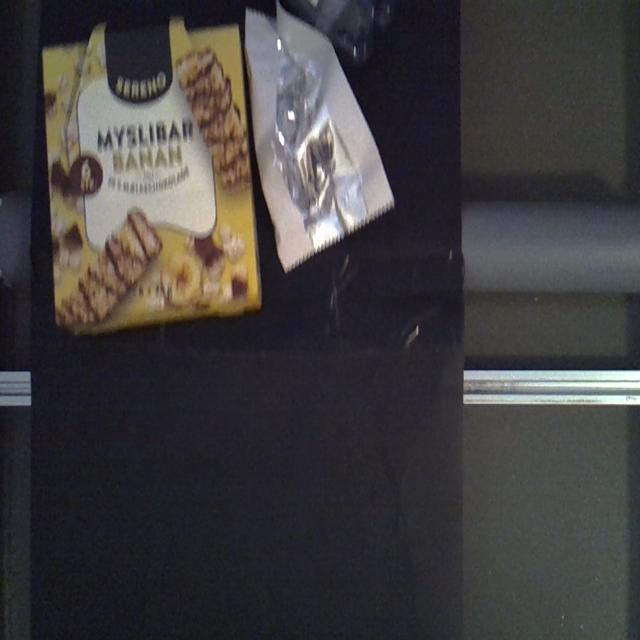carton: (40, 16, 266, 339)
packaging-soft-plastic: (243, 3, 395, 273)
